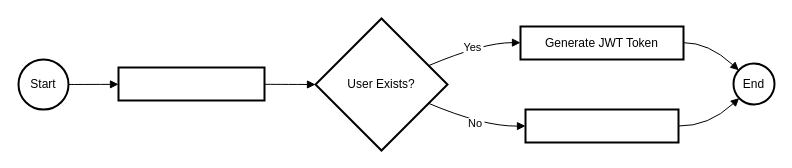
Image size: 792x168. Some labels were removed from this diagram. The shapes that lost their labels are listed below. From the top down, each one's centre as x and y in pixels, then its label:
the point at 191,83: Authenticate User
the point at 601,125: Send Error Message
